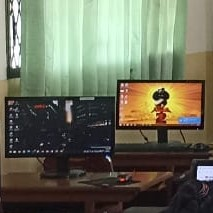monitor: (4, 96, 115, 159), (115, 80, 205, 131), (191, 159, 213, 200)
